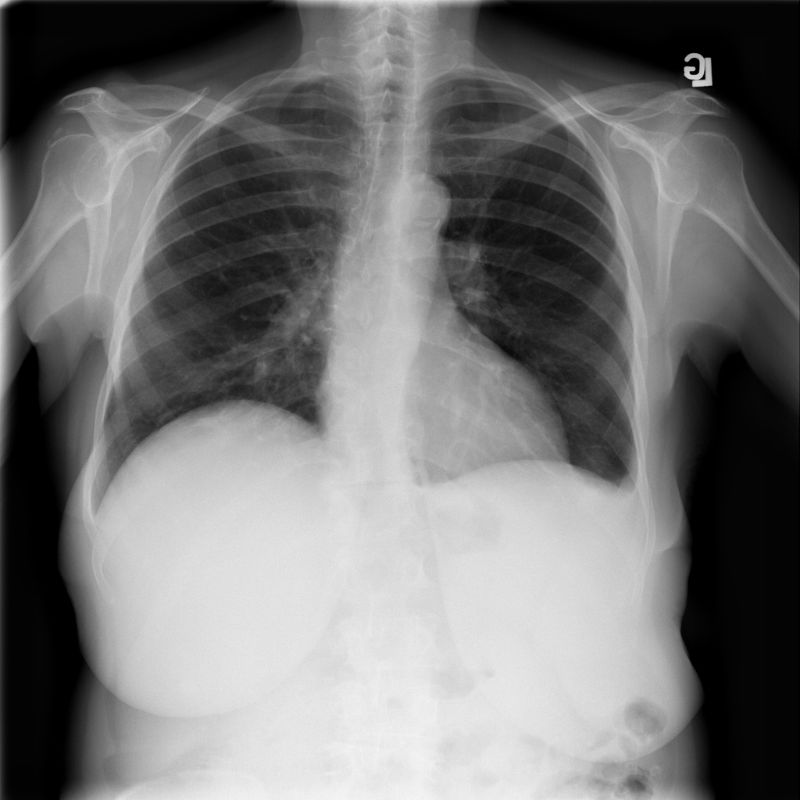PLEURAL EFFUSION: (607, 459, 659, 539)
